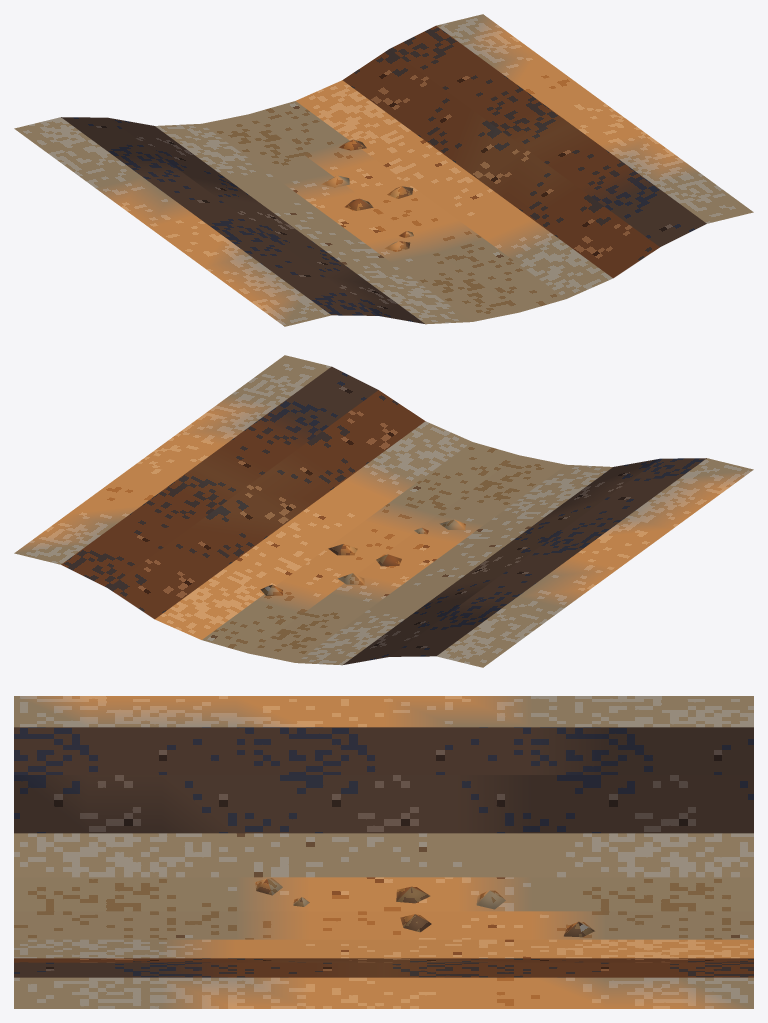
The model's file is wland.riverbed.glb.
3 views of the same model, one above another, from view 1: azimuth 30°, elevation 25°; view 2: azimuth 150°, elevation 25°; view 3: azimuth 270°, elevation 25° (orthographic). The views are drawn at different scales.
Parts seen in each view (by area): view 1: kit_shell_ground, kit_stones; view 2: kit_shell_ground, kit_stones; view 3: kit_shell_ground, kit_stones.
Part boxes in pixels (x1=…): kit_shell_ground: x1=14, y1=14, x2=753, y2=326; kit_stones: x1=321, y1=139, x2=413, y2=251; kit_shell_ground: x1=14, y1=355, x2=753, y2=667; kit_stones: x1=260, y1=519, x2=465, y2=595; kit_shell_ground: x1=14, y1=696, x2=753, y2=1008; kit_stones: x1=255, y1=878, x2=594, y2=937.
Size of the model in its own units: 8 by 0.7 by 8.
Materials: 4 (4 with a texture image).
